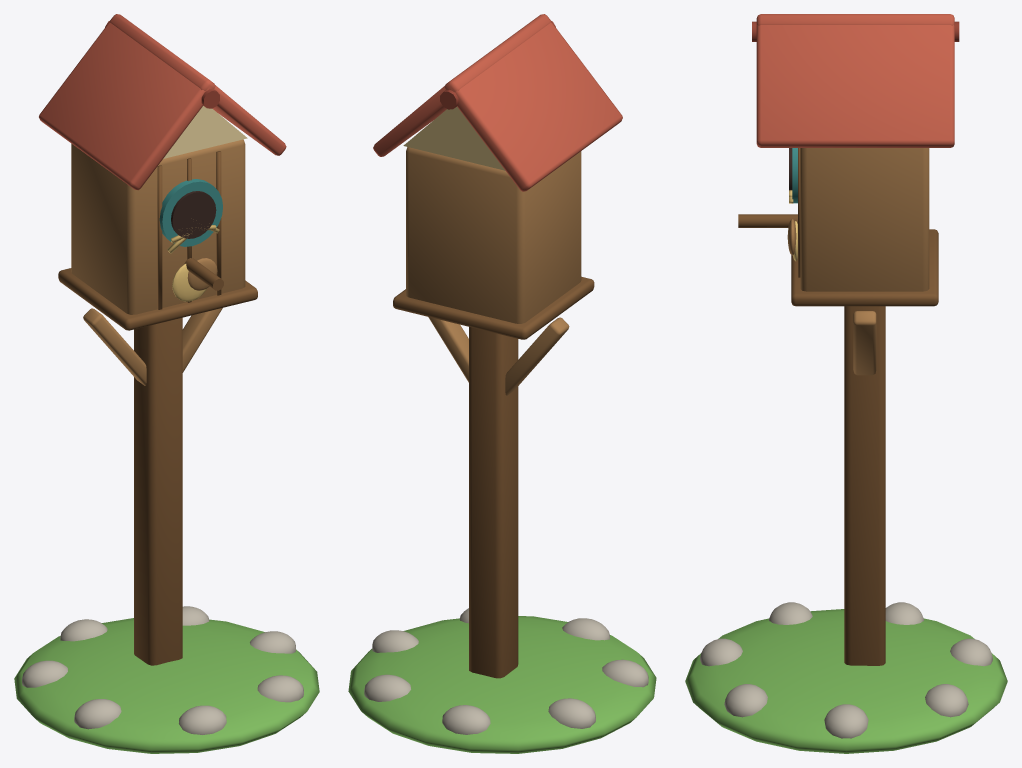
The model's file is owl-box.glb.
3 views of the same model, side by side, from view 1: azimuth 30°, elevation 25°; view 2: azimuth 150°, elevation 25°; view 3: azimuth 270°, elevation 25° (orthographic). The views are drawn at different scales.
Parts seen in each view (by area): view 1: OWL BOX · mound, OWL BOX · body, OWL BOX · post, OWL BOX · roof -1, OWL BOX · floor, OWL BOX · roof 1, OWL BOX · front gable, OWL BOX · entrance, OWL BOX · entrance ring, OWL BOX · brace -1, OWL BOX · ring stone 5, OWL BOX · brace 1 (+9 smaller); view 2: OWL BOX · mound, OWL BOX · body, OWL BOX · post, OWL BOX · roof -1, OWL BOX · floor, OWL BOX · roof 1, OWL BOX · back gable, OWL BOX · brace -1, OWL BOX · ring stone 2, OWL BOX · brace 1, OWL BOX · ring stone 3, OWL BOX · ring stone 1 (+3 smaller); view 3: OWL BOX · mound, OWL BOX · roof 1, OWL BOX · body, OWL BOX · post, OWL BOX · floor, OWL BOX · roof -1, OWL BOX · brace 1, OWL BOX · ring stone 0, OWL BOX · ring stone 1, OWL BOX · ring stone 6, OWL BOX · ring stone 2, OWL BOX · ring stone 5 (+3 smaller).
Part boxes in pixels (bbox=[...]): OWL BOX · mound: bbox=[14, 618, 319, 753]; OWL BOX · body: bbox=[71, 139, 245, 314]; OWL BOX · post: bbox=[134, 317, 182, 665]; OWL BOX · roof -1: bbox=[39, 14, 215, 190]; OWL BOX · floor: bbox=[58, 268, 257, 330]; OWL BOX · roof 1: bbox=[109, 14, 286, 155]; OWL BOX · front gable: bbox=[163, 106, 247, 158]; OWL BOX · entrance: bbox=[171, 191, 216, 238]; OWL BOX · entrance ring: bbox=[159, 179, 222, 246]; OWL BOX · brace -1: bbox=[83, 308, 146, 385]; OWL BOX · ring stone 5: bbox=[179, 705, 226, 734]; OWL BOX · brace 1: bbox=[182, 308, 222, 372]; OWL BOX · mound: bbox=[348, 616, 656, 753]; OWL BOX · body: bbox=[406, 147, 581, 323]; OWL BOX · post: bbox=[469, 327, 518, 678]; OWL BOX · roof -1: bbox=[444, 14, 622, 191]; OWL BOX · floor: bbox=[393, 276, 594, 339]; OWL BOX · roof 1: bbox=[373, 14, 551, 156]; OWL BOX · back gable: bbox=[403, 107, 505, 170]; OWL BOX · brace -1: bbox=[505, 317, 569, 395]; OWL BOX · ring stone 2: bbox=[442, 705, 490, 734]; OWL BOX · brace 1: bbox=[428, 317, 468, 382]; OWL BOX · ring stone 3: bbox=[548, 698, 595, 728]; OWL BOX · ring stone 1: bbox=[364, 674, 410, 701]; OWL BOX · mound: bbox=[685, 609, 1007, 753]; OWL BOX · roof 1: bbox=[756, 14, 954, 147]; OWL BOX · body: bbox=[800, 148, 929, 291]; OWL BOX · post: bbox=[844, 306, 885, 665]; OWL BOX · floor: bbox=[791, 229, 938, 306]; OWL BOX · roof -1: bbox=[756, 14, 954, 25]; OWL BOX · brace 1: bbox=[853, 311, 876, 375]; OWL BOX · ring stone 0: bbox=[824, 704, 868, 738]; OWL BOX · ring stone 1: bbox=[925, 684, 968, 717]; OWL BOX · ring stone 6: bbox=[724, 684, 767, 717]; OWL BOX · ring stone 2: bbox=[950, 638, 992, 666]; OWL BOX · ring stone 5: bbox=[700, 638, 742, 666].
Bounding box in the file's own units: 1.4 × 3.31 × 1.4.
